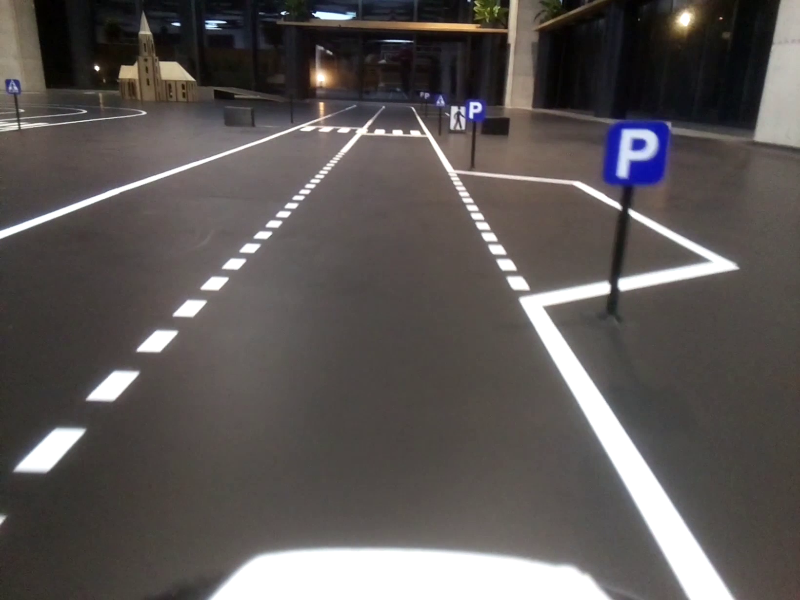park: (604, 120, 666, 186)
